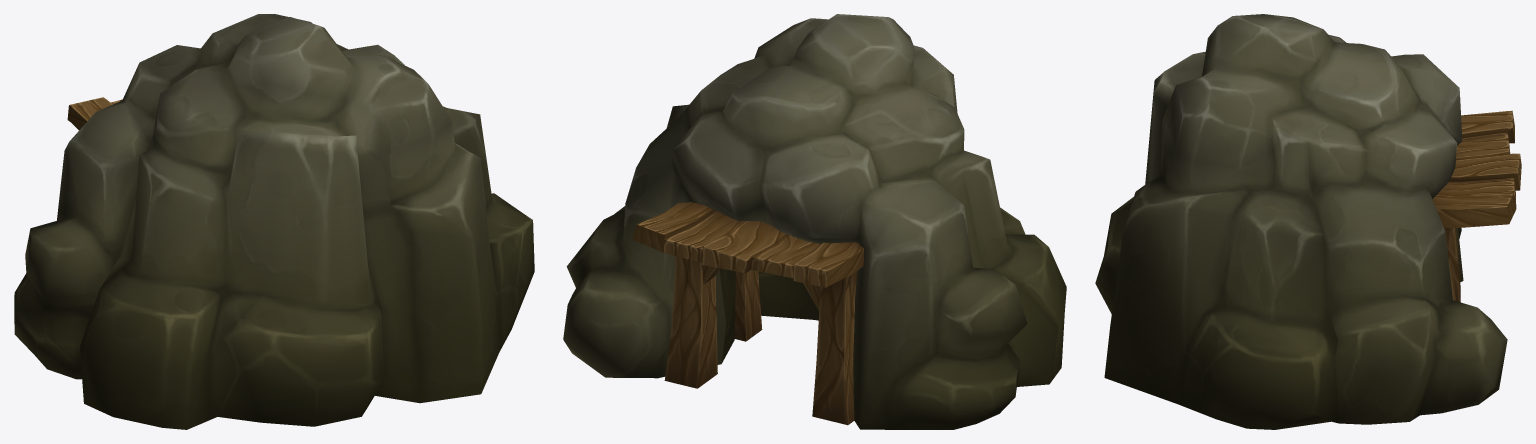
Rendered from Mine.FBX.
3 renders of one model, left to right at view 1: azimuth 30°, elevation 25°; view 2: azimuth 150°, elevation 25°; view 3: azimuth 270°, elevation 25°, orthographic. The views are drawn at different scales.
Visible parts, largest first — view 1: Mine; view 2: Mine; view 3: Mine.
Part boxes in pixels (x1,y1,x2,y2): Mine: [14, 14, 534, 429]; Mine: [563, 14, 1066, 429]; Mine: [1095, 14, 1521, 429].
Size of what is drawn, in the model's own units: 1029 by 878 by 711.
